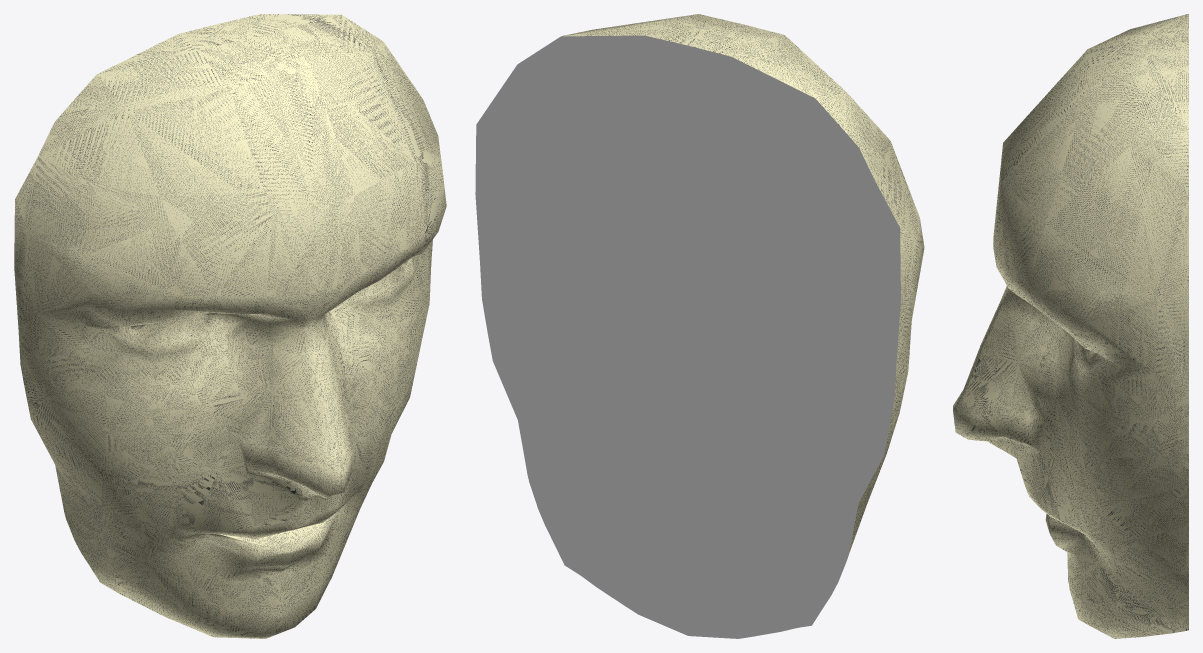
Rendered from yüz.dae.
The picture shows the model from 3 angles, left to right: view 1: azimuth 30°, elevation 25°; view 2: azimuth 150°, elevation 25°; view 3: azimuth 270°, elevation 25°; orthographic projection. The views are drawn at different scales.
Parts seen in each view (by area): view 1: Menschliches_Gesicht; view 2: Menschliches_Gesicht (×2); view 3: Menschliches_Gesicht.
Boxes of the visible parts, x1,y1,x2,y2 form: Menschliches_Gesicht: (14, 14, 446, 638); Menschliches_Gesicht (×2): (475, 14, 924, 638); Menschliches_Gesicht: (953, 14, 1188, 638).
Bounding box in the file's own units: 3.88 × 1.96 × 5.27.
